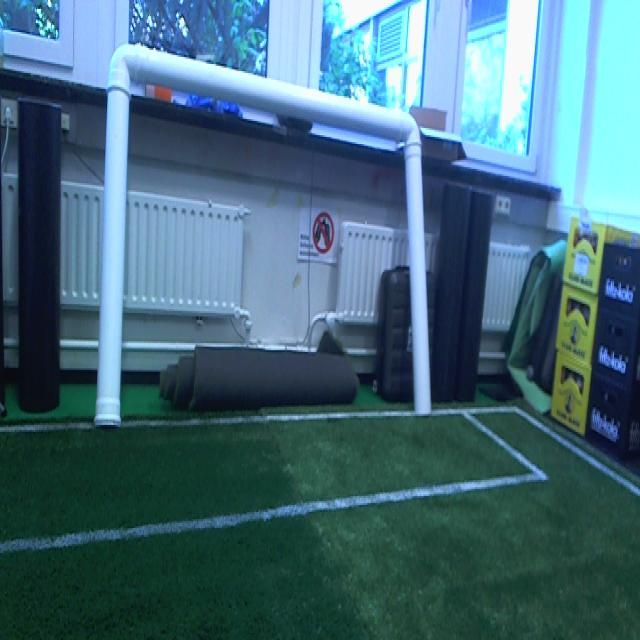goalpost: (102, 62, 135, 425), (404, 155, 433, 414)
